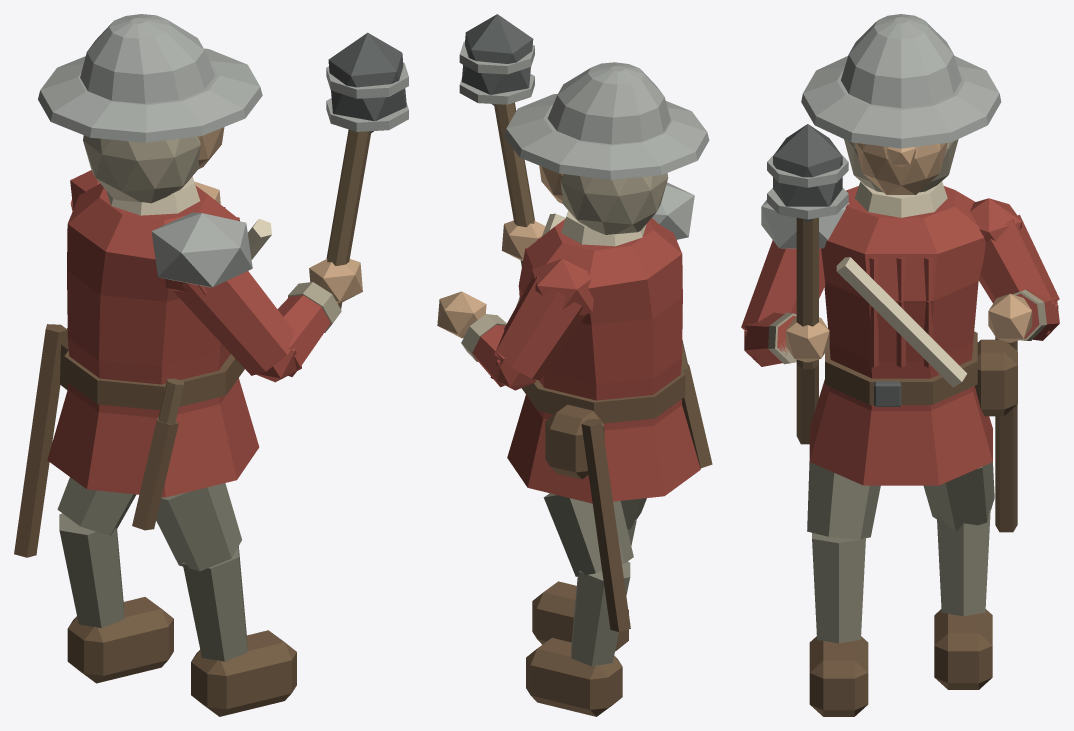
The model's file is commander_captain.glb.
3 renders of one model, left to right at view 1: azimuth 30°, elevation 25°; view 2: azimuth 150°, elevation 25°; view 3: azimuth 270°, elevation 25°, orthographic. The views are drawn at different scales.
Visible parts, largest first — view 1: commander_captain_team_cloth, commander_captain_steel, commander_captain_leather, commander_captain_hose, commander_captain_padded_linen, commander_captain_iron, commander_captain_oak_dark, commander_captain_skin, commander_captain_linen; view 2: commander_captain_team_cloth, commander_captain_steel, commander_captain_leather, commander_captain_hose, commander_captain_padded_linen, commander_captain_iron, commander_captain_skin, commander_captain_oak_dark, commander_captain_linen; view 3: commander_captain_team_cloth, commander_captain_steel, commander_captain_leather, commander_captain_hose, commander_captain_skin, commander_captain_linen, commander_captain_iron, commander_captain_oak_dark, commander_captain_padded_linen.
Boxes of the visible parts, x1,y1,x2,y2 form: commander_captain_team_cloth: [47, 170, 330, 497]; commander_captain_steel: [38, 14, 408, 287]; commander_captain_leather: [14, 324, 296, 716]; commander_captain_hose: [57, 477, 247, 661]; commander_captain_padded_linen: [83, 135, 341, 332]; commander_captain_iron: [328, 32, 406, 132]; commander_captain_oak_dark: [158, 129, 370, 423]; commander_captain_skin: [194, 127, 362, 303]; commander_captain_linen: [106, 176, 271, 259]; commander_captain_team_cloth: [472, 218, 700, 503]; commander_captain_steel: [459, 41, 709, 239]; commander_captain_leather: [521, 364, 712, 716]; commander_captain_hose: [543, 493, 646, 666]; commander_captain_padded_linen: [461, 173, 668, 361]; commander_captain_iron: [461, 14, 533, 105]; commander_captain_skin: [437, 165, 563, 338]; commander_captain_oak_dark: [494, 102, 688, 370]; commander_captain_linen: [516, 210, 646, 306]; commander_captain_team_cloth: [741, 186, 1059, 485]; commander_captain_steel: [761, 14, 1001, 248]; commander_captain_leather: [796, 331, 1017, 716]; commander_captain_hose: [807, 445, 994, 643]; commander_captain_skin: [786, 143, 1032, 362]; commander_captain_linen: [836, 181, 967, 387]; commander_captain_iron: [773, 124, 901, 406]; commander_captain_oak_dark: [796, 217, 818, 369]; commander_captain_padded_linen: [768, 139, 1046, 364].
Bounding box in the file's own units: 0.8666 × 1.83 × 0.8189.
